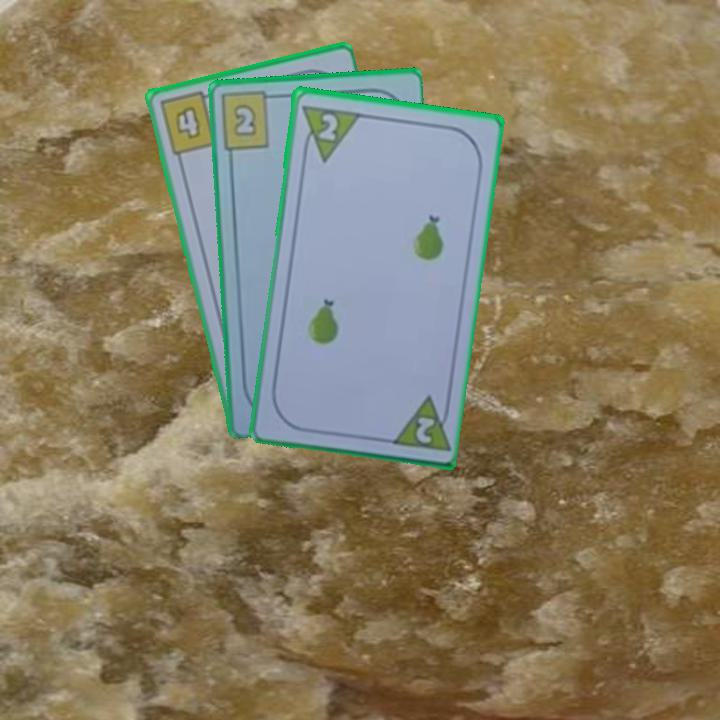2b: (217, 89, 281, 153)
2p: (298, 100, 363, 164), (412, 413, 439, 447)
4b: (155, 88, 219, 158)
